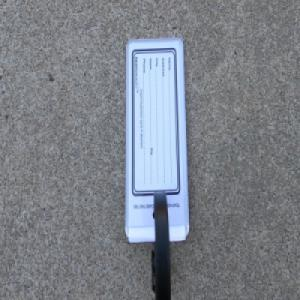LuggageTag: (124, 34, 190, 300)
